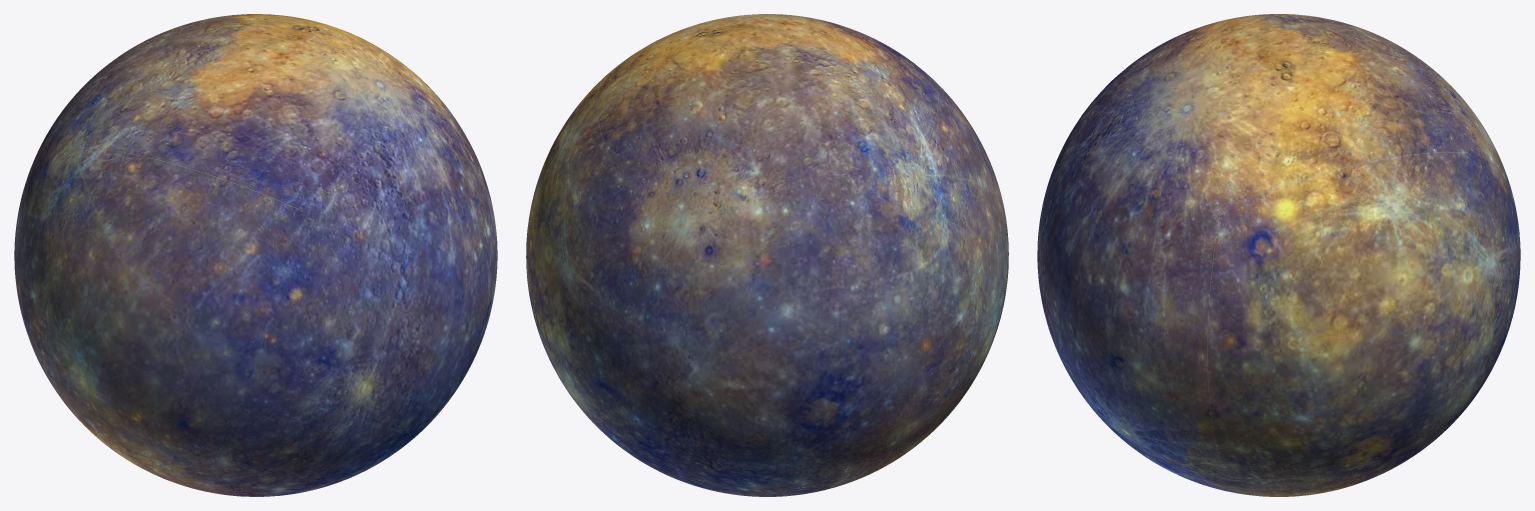
The model's file is AdobeStock_125032100_planetMercury.glb.
3 renders of one model, left to right at view 1: azimuth 30°, elevation 25°; view 2: azimuth 150°, elevation 25°; view 3: azimuth 270°, elevation 25°, orthographic.
Visible parts, largest first — view 1: planetMercury; view 2: planetMercury; view 3: planetMercury.
Part boxes in pixels (x1,y1,x2,y2): planetMercury: (14,14,497,496); planetMercury: (526,14,1008,496); planetMercury: (1037,14,1520,496).
Bounding box in the file's own units: 20.2 × 20.18 × 20.2.
1 material, 1 textured.
